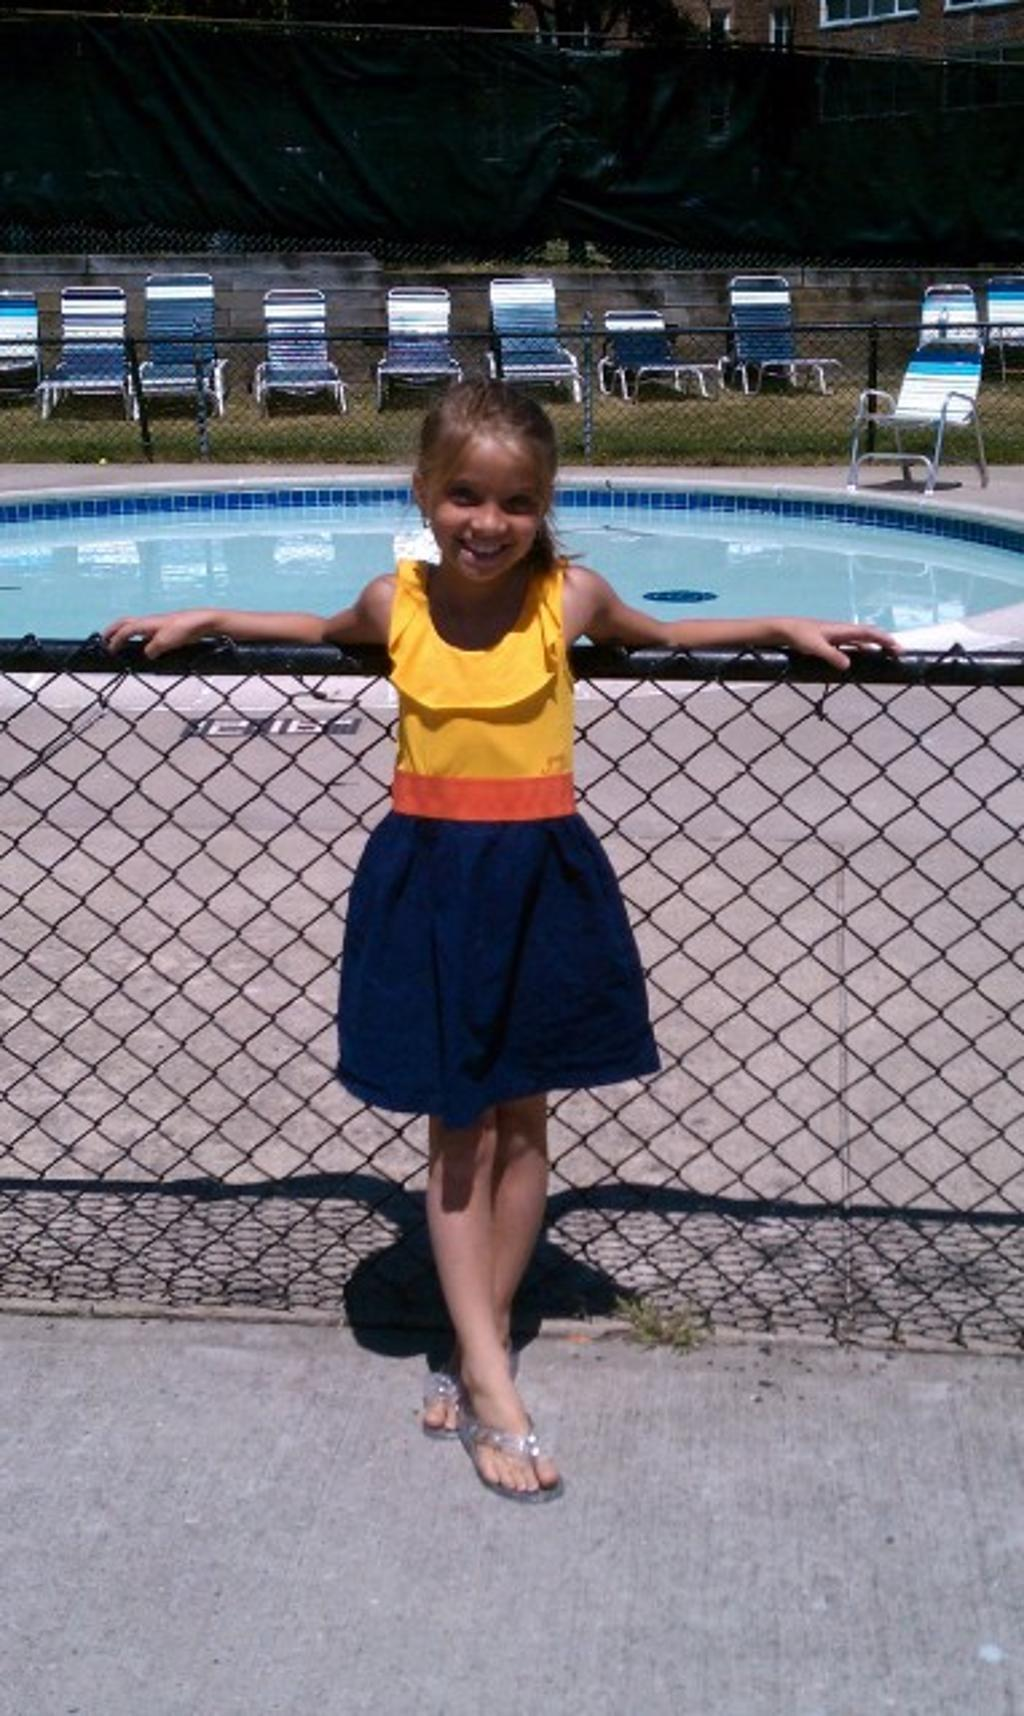face: (433, 433, 543, 590)
